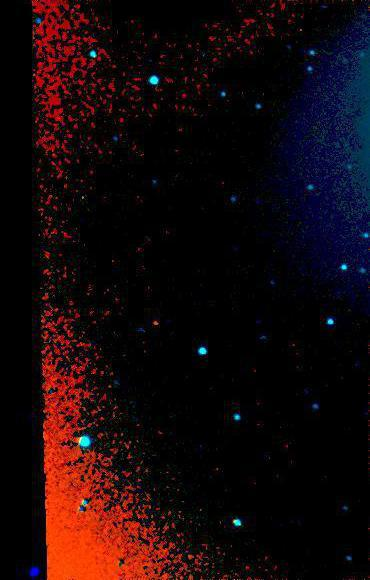star: (137, 305, 167, 335)
